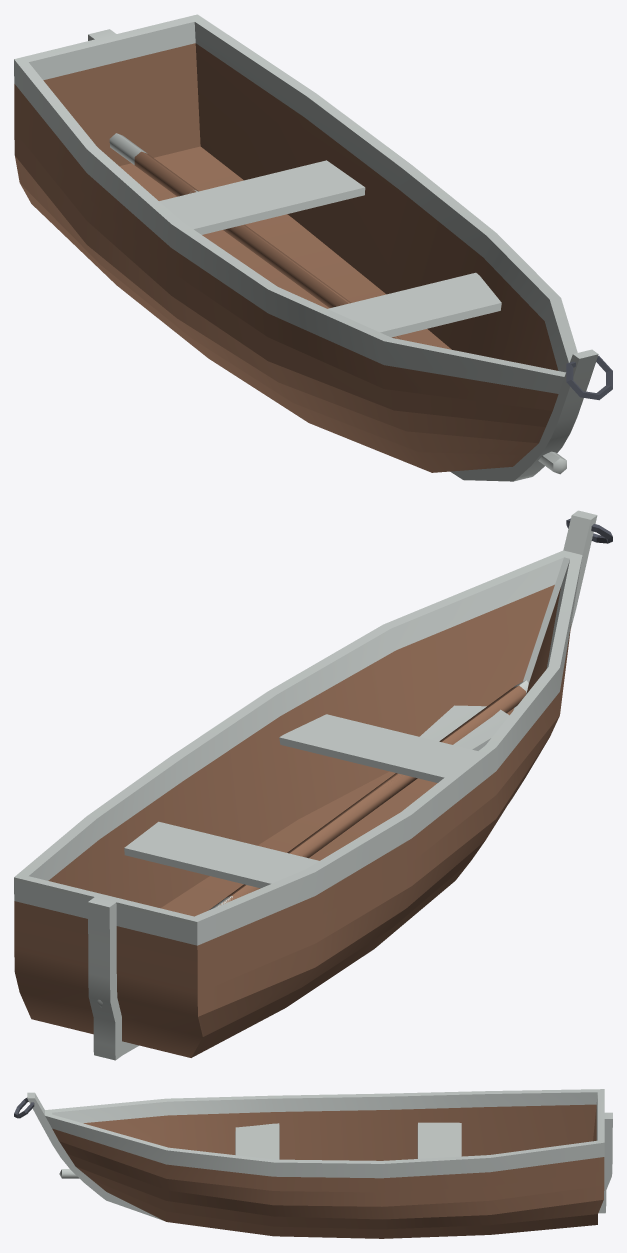
File: swamp_rowboat.fbx
The picture shows the model from 3 angles, top to bottom: view 1: azimuth 30°, elevation 25°; view 2: azimuth 150°, elevation 25°; view 3: azimuth 270°, elevation 25°; orthographic projection. The views are drawn at different scales.
Visible parts, largest first — view 1: rowboat, Rowboat_pole; view 2: rowboat, Rowboat_pole, Rowboat_paddle; view 3: rowboat.
Part boxes in pixels (box(x1,y1,x2,y2)): rowboat: box(14, 14, 612, 481); Rowboat_pole: box(109, 133, 566, 474); rowboat: box(14, 510, 612, 1060); Rowboat_pole: box(97, 680, 528, 1007); Rowboat_paddle: box(208, 705, 509, 910); rowboat: box(14, 1089, 612, 1238).
Bounding box in the file's own units: 0.7739 × 0.6565 × 2.79.
